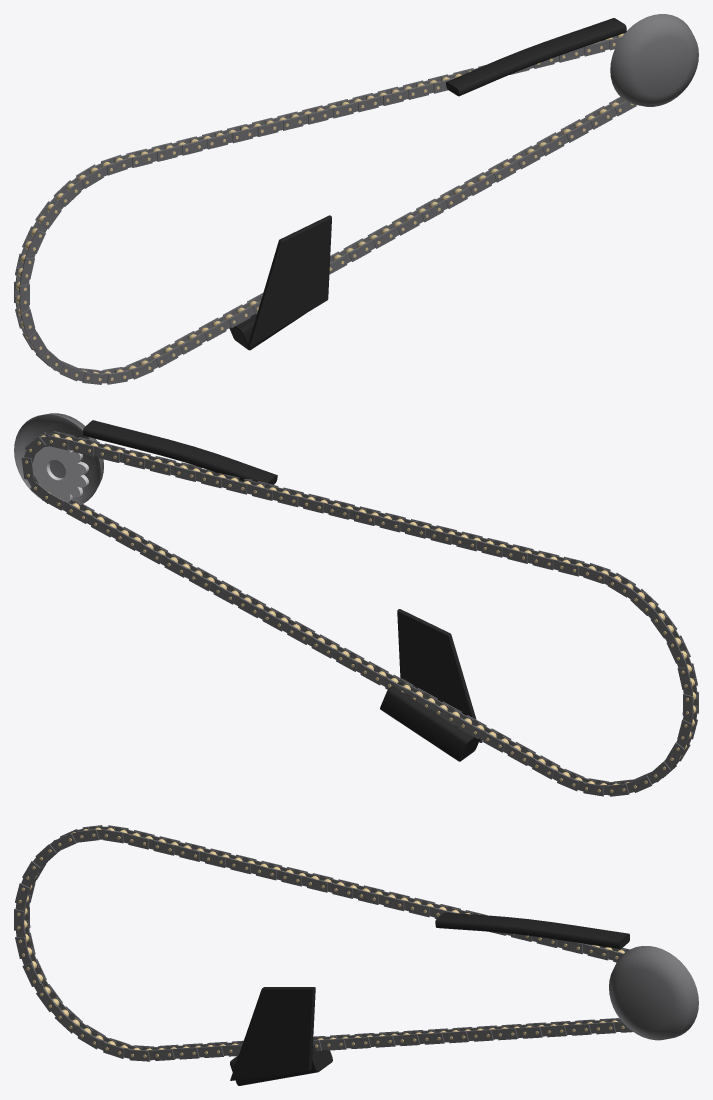
Rendered from bike_mx_2t__chain.glb.
3 views of the same model, one above another, from view 1: azimuth 30°, elevation 25°; view 2: azimuth 150°, elevation 25°; view 3: azimuth 330°, elevation 25° (orthographic).
Parts seen in each view (by area): view 1: transmission__chain__plates, transmission__chain_guide, transmission__sprocket_cover, transmission__chain_slider, transmission__chain__rollers; view 2: transmission__chain__plates, transmission__chain_guide, transmission__chain__rollers, transmission__chain_slider, transmission__sprocket_cover, transmission__front_sprocket; view 3: transmission__chain__plates, transmission__chain_guide, transmission__sprocket_cover, transmission__chain_slider, transmission__chain__rollers.
Boxes of the visible parts, x1,y1,x2,y2 form: transmission__chain__plates: (14,33,636,384); transmission__chain_guide: (229,215,331,350); transmission__sprocket_cover: (610,14,698,106); transmission__chain_slider: (446,18,626,96); transmission__chain__rollers: (16,33,633,381); transmission__chain__plates: (21,431,698,796); transmission__chain_guide: (380,609,482,761); transmission__chain__rollers: (25,434,696,792); transmission__chain_slider: (83,420,277,484); transmission__sprocket_cover: (14,413,103,503); transmission__front_sprocket: (32,446,88,502); transmission__chain__plates: (14,825,632,1061); transmission__chain_guide: (230,987,332,1085); transmission__sprocket_cover: (609,946,698,1040); transmission__chain_slider: (435,912,629,949); transmission__chain__rollers: (17,827,624,1057).
Size of the model in its own units: 85.29 by 28.95 by 5.1.
